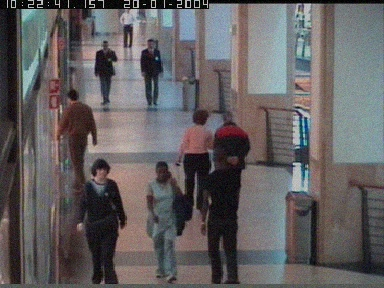person: (75, 158, 127, 283), (198, 146, 239, 283), (145, 160, 188, 281), (58, 89, 96, 196), (176, 110, 214, 215), (212, 114, 250, 180), (140, 39, 162, 105), (95, 40, 117, 104), (119, 8, 136, 47)
